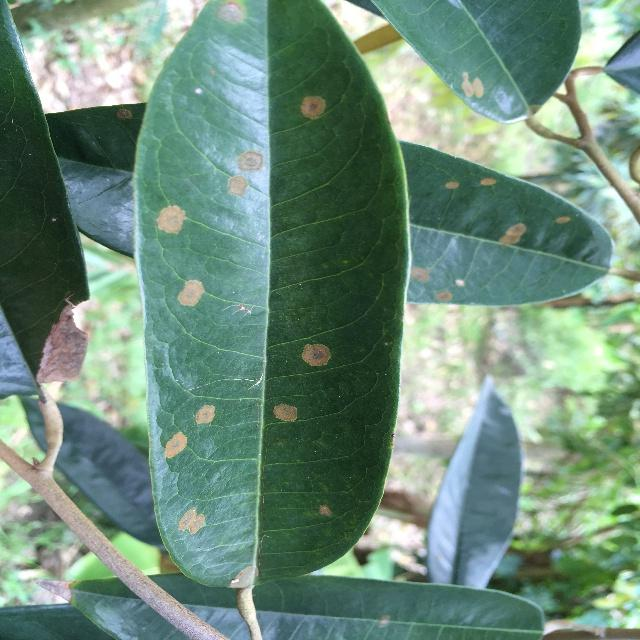Algal Leaf Spot: (121, 0, 417, 601)
